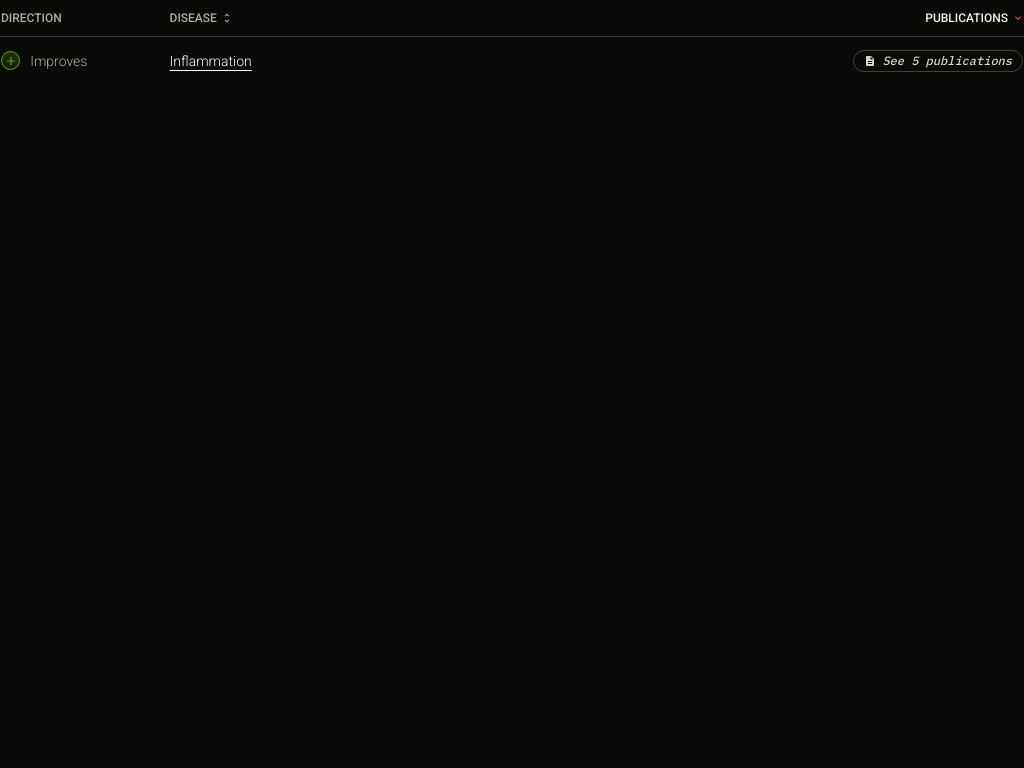
Test case: publications › opens a modal listing every publication, not just the visible few
The width and height of the screenshot is (1024, 768).
Expected: the link "inflammation" is shown, [170,50,252,70]
What coordinates should you click on to do the following:
click the button "See 5 publications"
I would click on:
 (938, 60)
Its box is [853,50,1023,72].
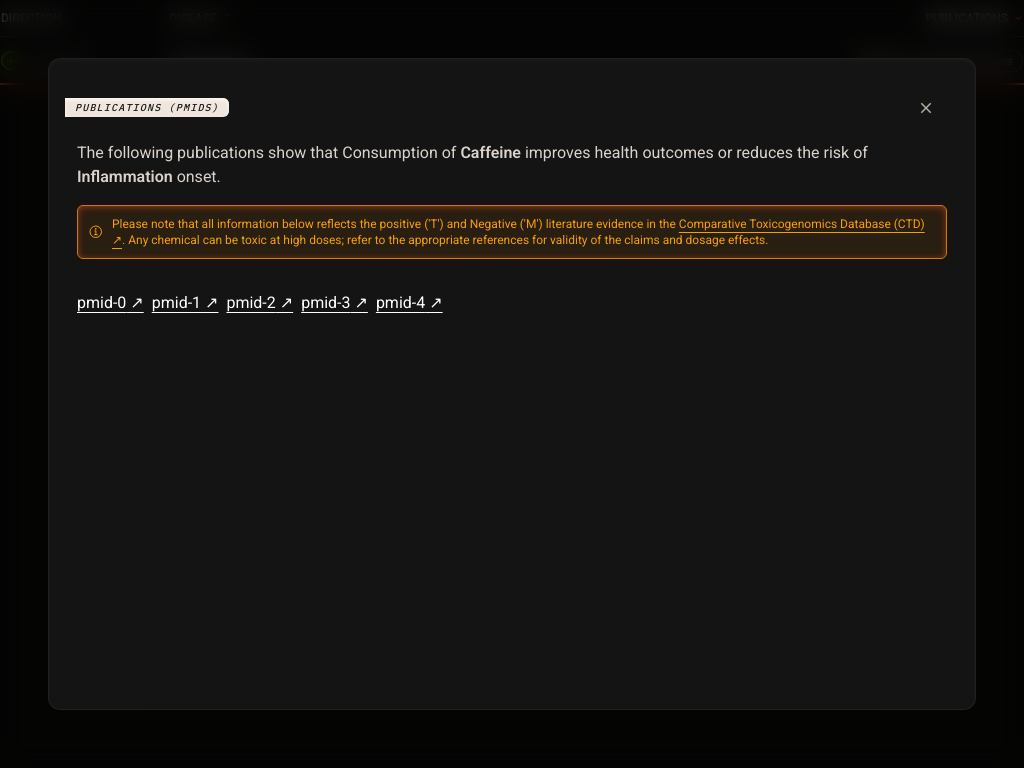
Now the heading "Publications (PMIDs)" is shown, box [65,98,229,117]
